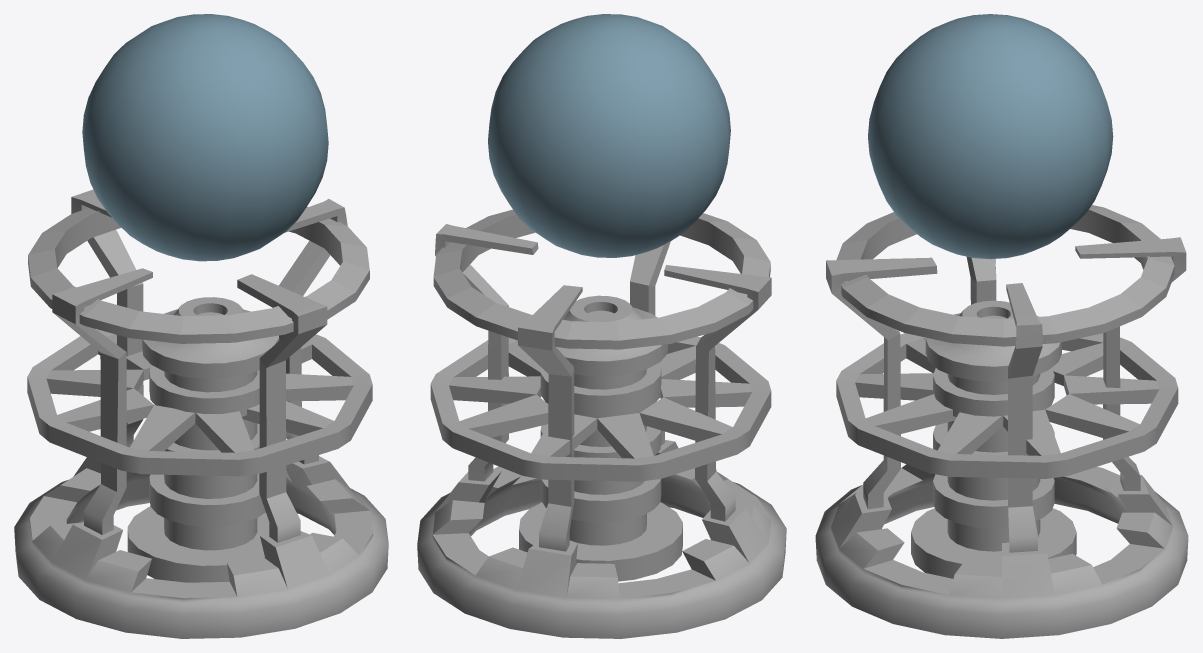
Rendered from Fryalator_GrayBox.fbx.
The picture shows the model from 3 angles, left to right: view 1: azimuth 30°, elevation 25°; view 2: azimuth 150°, elevation 25°; view 3: azimuth 270°, elevation 25°; orthographic projection.
Parts seen in each view (by area): view 1: base, ball, middle, inside, top; view 2: base, ball, middle, inside, top; view 3: base, ball, middle, inside, top.
Boxes of the visible parts, x1,y1,x2,y2 form: base: [14, 189, 388, 638]; ball: [82, 14, 328, 261]; middle: [27, 329, 372, 476]; inside: [127, 297, 279, 582]; top: [28, 207, 369, 343]; base: [417, 224, 786, 638]; ball: [488, 14, 730, 257]; middle: [430, 336, 771, 481]; inside: [519, 295, 682, 581]; top: [433, 209, 770, 349]; base: [815, 237, 1188, 638]; ball: [868, 14, 1113, 259]; middle: [836, 333, 1178, 478]; inside: [911, 300, 1076, 578]; top: [836, 205, 1174, 346].
Size of the model in its own units: 5.18 by 8.18 by 5.18.
